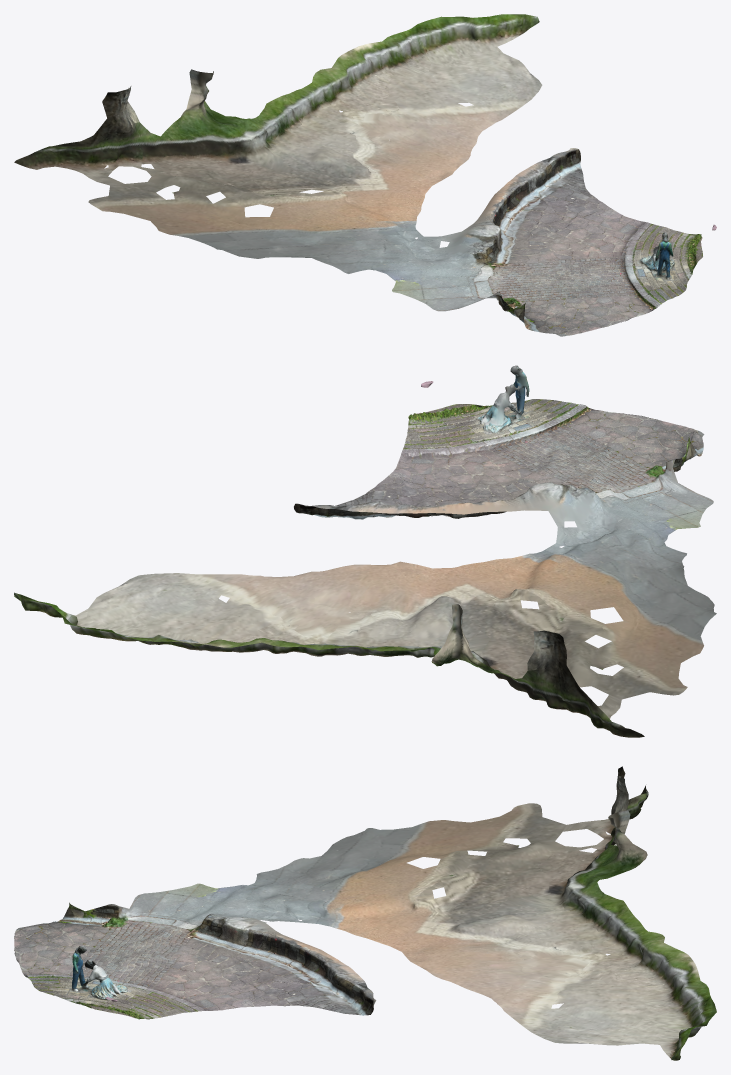
3 views of the same model, one above another, from view 1: azimuth 30°, elevation 25°; view 2: azimuth 150°, elevation 25°; view 3: azimuth 270°, elevation 25° (orthographic). The views are drawn at different scales.
Visible parts, largest first — view 1: baked_mesh_e9010ab1; view 2: baked_mesh_e9010ab1; view 3: baked_mesh_e9010ab1.
Boxes of the visible parts, x1,y1,x2,y2 form: baked_mesh_e9010ab1: (14, 14, 716, 336); baked_mesh_e9010ab1: (14, 365, 716, 737); baked_mesh_e9010ab1: (14, 766, 716, 1060).
Bounding box in the file's own units: 7.05 × 0.9497 × 7.61.
1 material, 1 textured.
